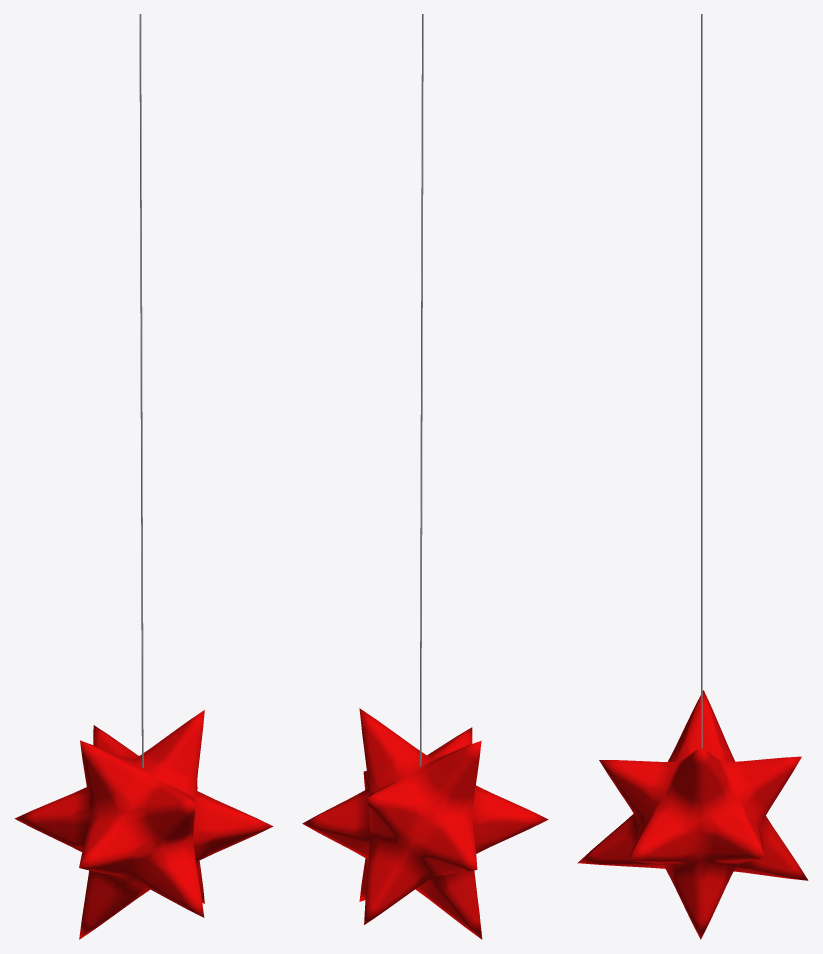
The model's file is Hanging_Star_Red.fbx.
3 renders of one model, left to right at view 1: azimuth 30°, elevation 25°; view 2: azimuth 150°, elevation 25°; view 3: azimuth 270°, elevation 25°, orthographic.
Parts seen in each view (by area): view 1: HangingStar_A5, Star_Cable; view 2: HangingStar_A5, Star_Cable; view 3: HangingStar_A5, Star_Cable.
Part boxes in pixels (x1,y1,x2,y2): HangingStar_A5: (14, 710, 273, 939); Star_Cable: (139, 14, 143, 767); HangingStar_A5: (302, 708, 548, 939); Star_Cable: (419, 14, 423, 766); HangingStar_A5: (577, 690, 808, 939); Star_Cable: (701, 14, 702, 748).
Size of the model in its own units: 1.04 by 4.76 by 1.11.
